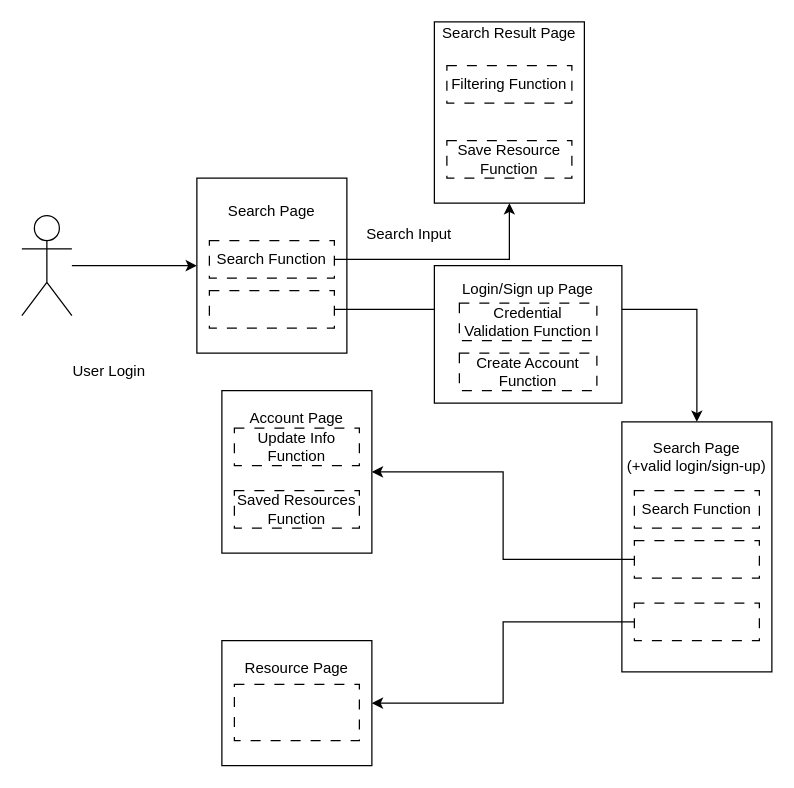
Image size: 794x788. Some labels were removed from this diagram. Here are the shapes that lost their labels. From the top down, the centre of each, then its label:
At (x=46, y=265): "User".
At (x=271, y=308): "Login/Sign-Up Function".
At (x=696, y=558): "Account Info Function".
At (x=696, y=621): "Resources Function".
At (x=296, y=712): "Add new Resource Function".
